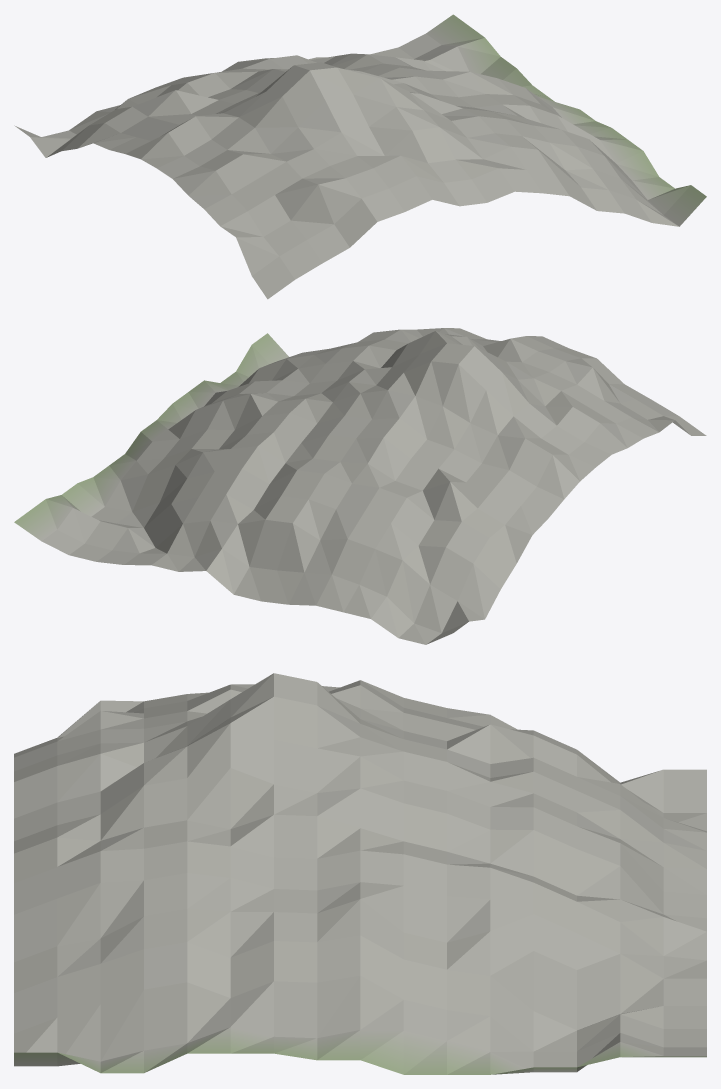
3 renders of one model, top to bottom at view 1: azimuth 30°, elevation 25°; view 2: azimuth 150°, elevation 25°; view 3: azimuth 270°, elevation 25°, orthographic. The views are drawn at different scales.
Size of the model in its own units: 32 by 11.01 by 32.
